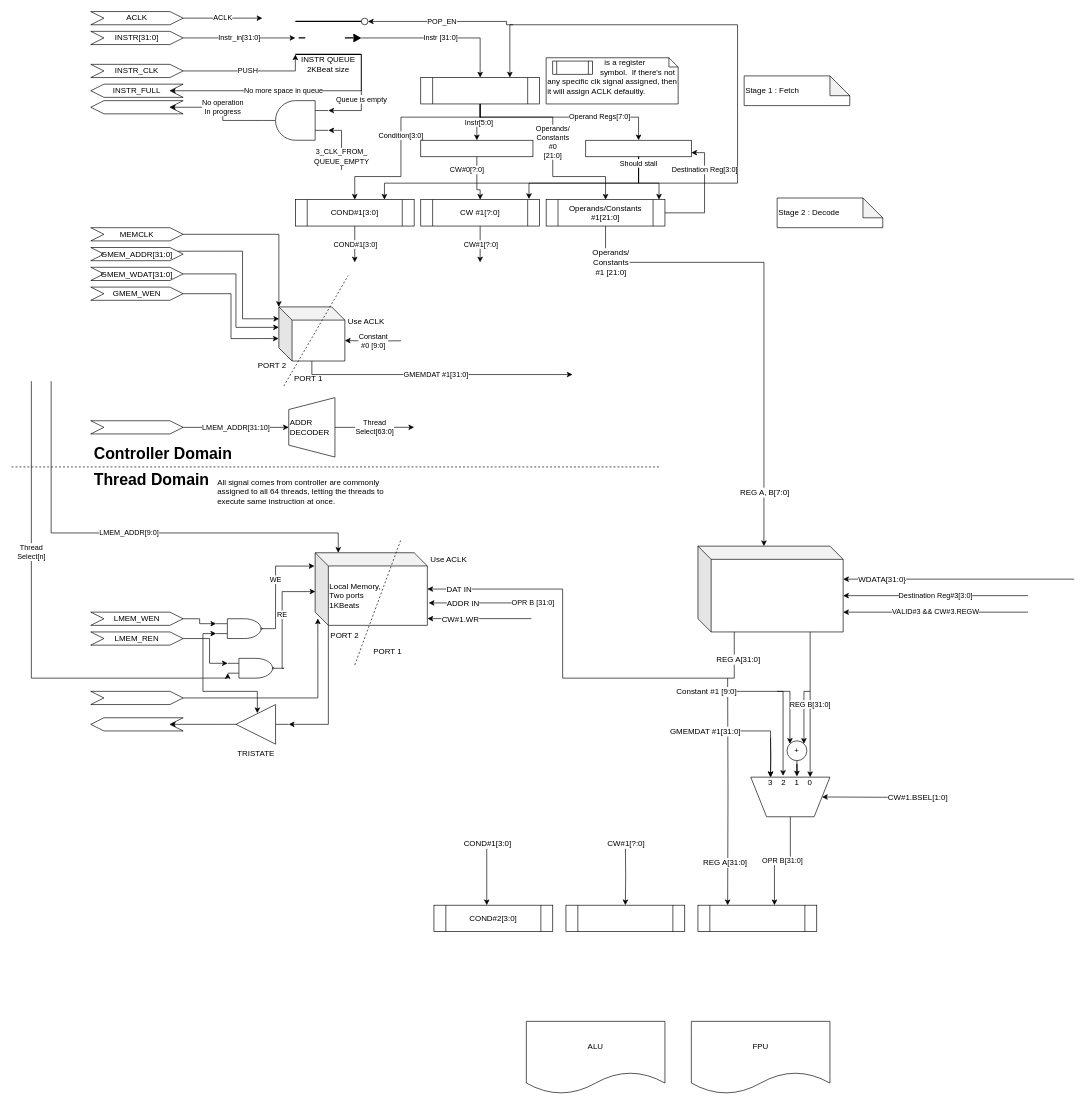
Image size: 1091x1106. Some labels were removed from this diagram. Here are the shapes that lost their labels. From the top down, the centre of each, then its label:
the point at 328,37: FIFO
the point at 136,107: INSTR_EMPTY
the point at 480,90: Fetched Instruction [31:0]
the point at 476,148: Instruction decoder
the point at 638,148: Bubble Generator
the point at 311,333: Constant Memory, Two ports 500KBeats
the point at 136,427: LMEM_ADDR[31:0]
the point at 770,588: Register Bank 32bit general perpose registers * 16
the point at 136,698: LMEM_WDAT[31:0]
the point at 136,724: LMEM_RDAT[31:0]
the point at 625,918: CW #2 [?:0]
the point at 757,918: OPERANDS[63:0]
